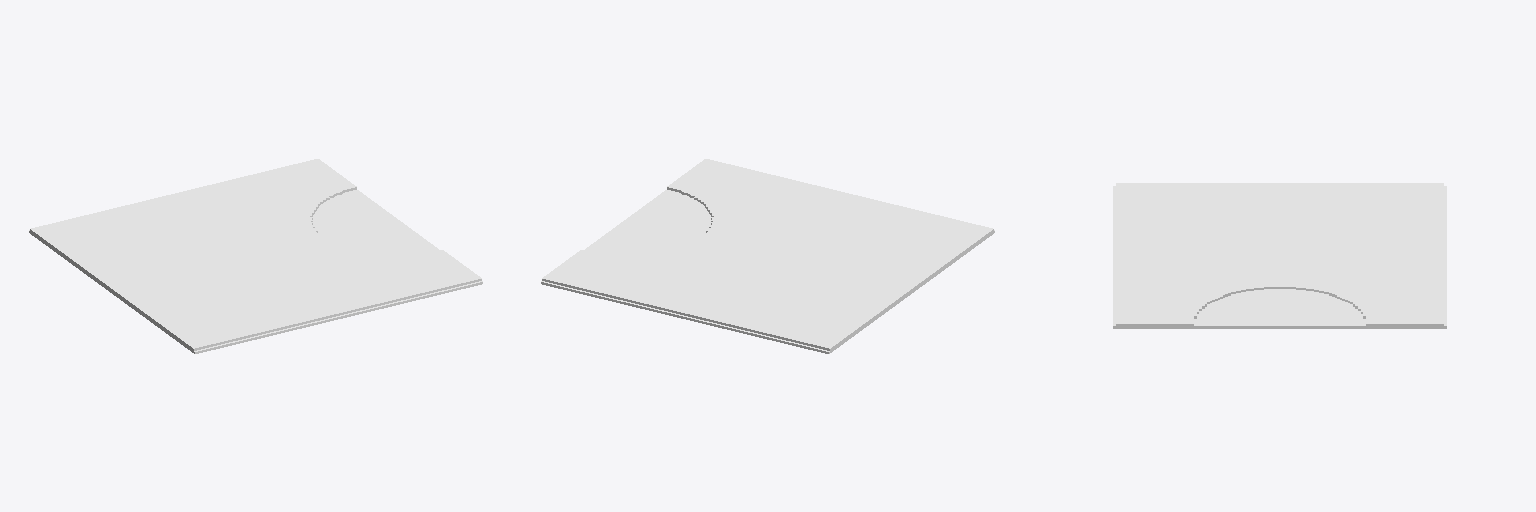
The model's file is GDS2_Flooring-6.obj.
The picture shows the model from 3 angles: view 1: azimuth 30°, elevation 25°; view 2: azimuth 150°, elevation 25°; view 3: azimuth 270°, elevation 25°; orthographic projection.
Visible parts, largest first — view 1: GDS2_Flooring-6; view 2: GDS2_Flooring-6; view 3: GDS2_Flooring-6.
Part boxes in pixels (bbox=[...]): GDS2_Flooring-6: bbox=[29, 159, 482, 353]; GDS2_Flooring-6: bbox=[541, 159, 994, 353]; GDS2_Flooring-6: bbox=[1113, 183, 1446, 328].
Bounding box in the file's own units: 12.8 × 0.2 × 12.8.